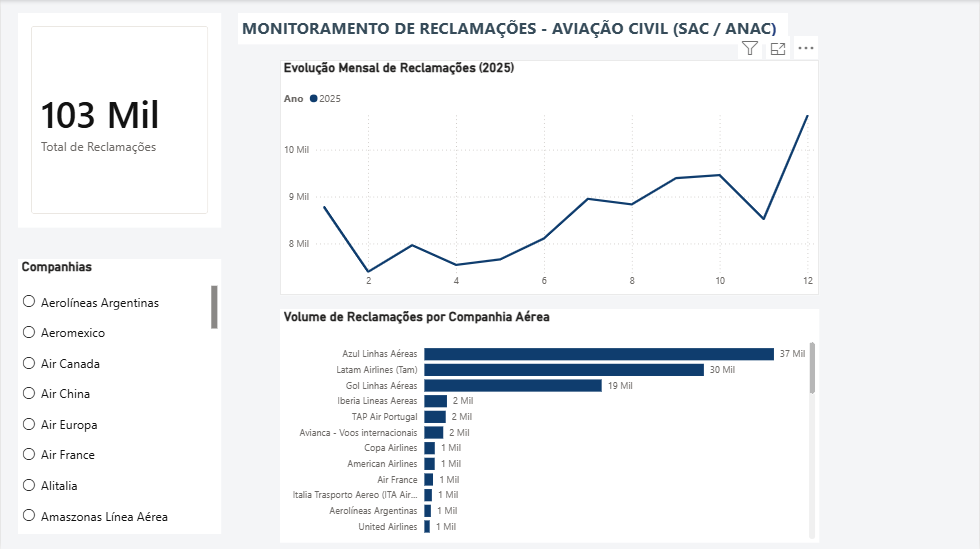

What the dashboard file says about the page in this screenshot:
{"tool":"powerbi","page":{"name":"Visão Geral","canvas":[1280,720],"ordinal":0},"visuals":[{"type":"textbox","box":[310.3,17,720,40.6],"z":0},{"type":"cardVisual","fields":{"Data":["Sum(desempenho.contagem_reclamacoes)"]},"box":[22.3,17,266.4,280.8],"z":1000},{"type":"barChart","title":"Volume de Reclamações por Companhia Aérea","fields":{"Category":["desempenho.companhia"],"Y":["Sum(desempenho.contagem_reclamacoes)"]},"box":[365.2,404.5,705.6,306.3],"z":2000},{"type":"lineChart","title":"Evolução Mensal de Reclamações (2025)","fields":{"Category":["desempenho.mes_abertura"],"Series":["desempenho.ano_abertura"],"Y":["Sum(desempenho.contagem_reclamacoes)"]},"box":[365.2,78.5,705.6,307.6],"z":3000},{"type":"listSlicer","title":"Companhias","fields":{"Values":["desempenho.companhia"]},"box":[22.3,339.1,266.4,360],"z":4000}]}

Visuals, with their boxes on the page's 1280x720 design canvas (x1, y1, x2, y2). These are canvas units, not pixel positions in the 980x549 screenshot, which may show the page scaled, cropped or inside an application window:
textbox: bbox=(310, 17, 1030, 58)
cardVisual - Sum(desempenho.contagem_reclamacoes): bbox=(22, 17, 289, 298)
"Volume de Reclamações por Companhia Aérea" barChart: bbox=(365, 404, 1071, 711)
"Evolução Mensal de Reclamações (2025)" lineChart: bbox=(365, 78, 1071, 386)
"Companhias" listSlicer: bbox=(22, 339, 289, 699)
